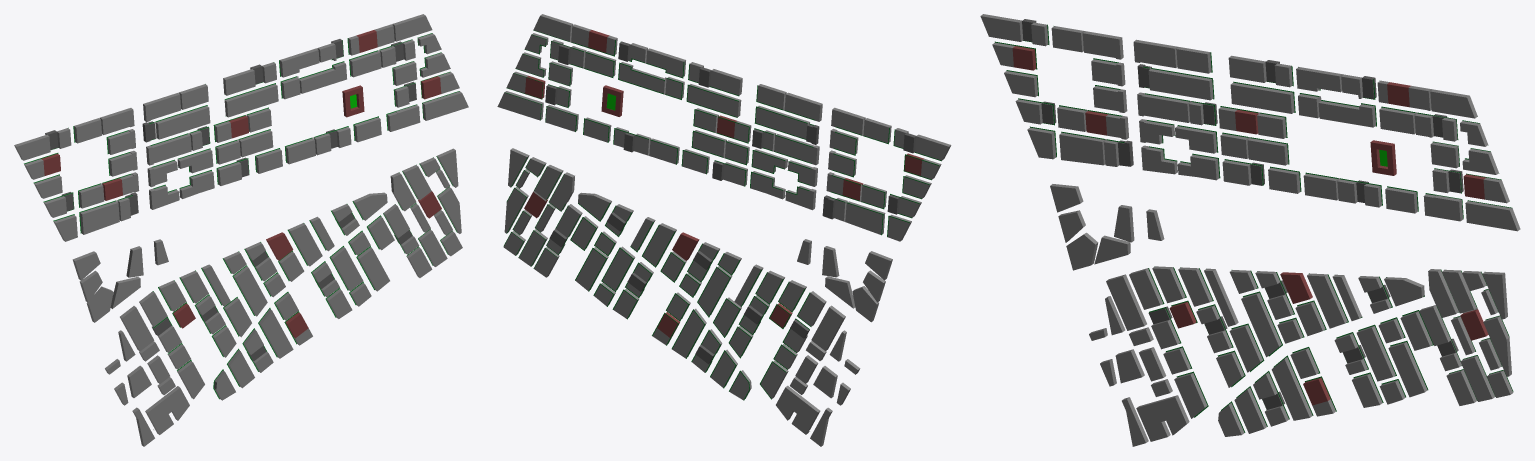
Rendered from S-ALG0-CO_Gebouwen.obj.
3 views of the same model, side by side, from view 1: azimuth 30°, elevation 25°; view 2: azimuth 150°, elevation 25°; view 3: azimuth 330°, elevation 25° (orthographic). The views are drawn at different scales.
Visible parts, largest first — view 1: M032-02 BM02, P032-26 BP26, M032-05 BM05, P032-24 BP24, M032-24 BM24, M032-23 BM23, P032-10 BP10, P032-12 BP12, P032-25 BP25, M032-22 BM22, P032-13 BP13, P032-11 BP11 (+48 smaller); view 2: M032-02 BM02, P032-26 BP26, M032-05 BM05, P032-24 BP24, M032-24 BM24, M032-23 BM23, P032-10 BP10, P032-13 BP13, P032-11 BP11, P032-25 BP25, M032-22 BM22, P032-12 BP12 (+48 smaller); view 3: M032-02 BM02, P032-26 BP26, M032-05 BM05, M032-24 BM24, M032-23 BM23, P032-24 BP24, P032-10 BP10, M032-22 BM22, P032-13 BP13, P032-25 BP25, M032-09 BM09, P032-12 BP12 (+57 smaller).
Boxes of the visible parts, x1=… form: M032-02 BM02: x1=139, y1=291, x2=204, y2=399; P032-26 BP26: x1=285, y1=116, x2=381, y2=164; M032-05 BM05: x1=179, y1=270, x2=236, y2=357; P032-24 BP24: x1=347, y1=14, x2=432, y2=55; M032-24 BM24: x1=402, y1=164, x2=462, y2=256; M032-23 BM23: x1=390, y1=172, x2=447, y2=266; P032-10 BP10: x1=79, y1=192, x2=138, y2=234; P032-12 BP12: x1=142, y1=105, x2=210, y2=142; P032-25 BP25: x1=349, y1=39, x2=415, y2=77; M032-22 BM22: x1=383, y1=204, x2=432, y2=277; P032-13 BP13: x1=146, y1=126, x2=210, y2=165; P032-11 BP11: x1=143, y1=84, x2=208, y2=122; M032-02 BM02: x1=760, y1=291, x2=826, y2=399; P032-26 BP26: x1=583, y1=117, x2=679, y2=164; M032-05 BM05: x1=728, y1=270, x2=784, y2=358; P032-24 BP24: x1=533, y1=14, x2=617, y2=56; M032-24 BM24: x1=503, y1=165, x2=563, y2=255; M032-23 BM23: x1=518, y1=172, x2=574, y2=266; P032-10 BP10: x1=822, y1=195, x2=885, y2=235; P032-13 BP13: x1=752, y1=128, x2=819, y2=165; P032-11 BP11: x1=756, y1=84, x2=822, y2=121; P032-25 BP25: x1=550, y1=39, x2=616, y2=77; M032-22 BM22: x1=533, y1=204, x2=582, y2=277; P032-12 BP12: x1=754, y1=105, x2=819, y2=144; M032-02 BM02: x1=1129, y1=268, x2=1208, y2=418; P032-26 BP26: x1=1303, y1=172, x2=1418, y2=213; M032-05 BM05: x1=1178, y1=267, x2=1245, y2=387; M032-24 BM24: x1=1442, y1=269, x2=1513, y2=397; M032-23 BM23: x1=1428, y1=269, x2=1495, y2=401; P032-24 BP24: x1=1377, y1=80, x2=1477, y2=118; P032-10 BP10: x1=1059, y1=131, x2=1133, y2=166; M032-22 BM22: x1=1419, y1=305, x2=1477, y2=405; P032-13 BP13: x1=1137, y1=92, x2=1217, y2=125; P032-25 BP25: x1=1379, y1=106, x2=1458, y2=141; M032-09 BM09: x1=1229, y1=270, x2=1282, y2=357; P032-12 BP12: x1=1137, y1=64, x2=1214, y2=100.
Bounding box in the file's own units: 1625 × 1246 × 29.9.
